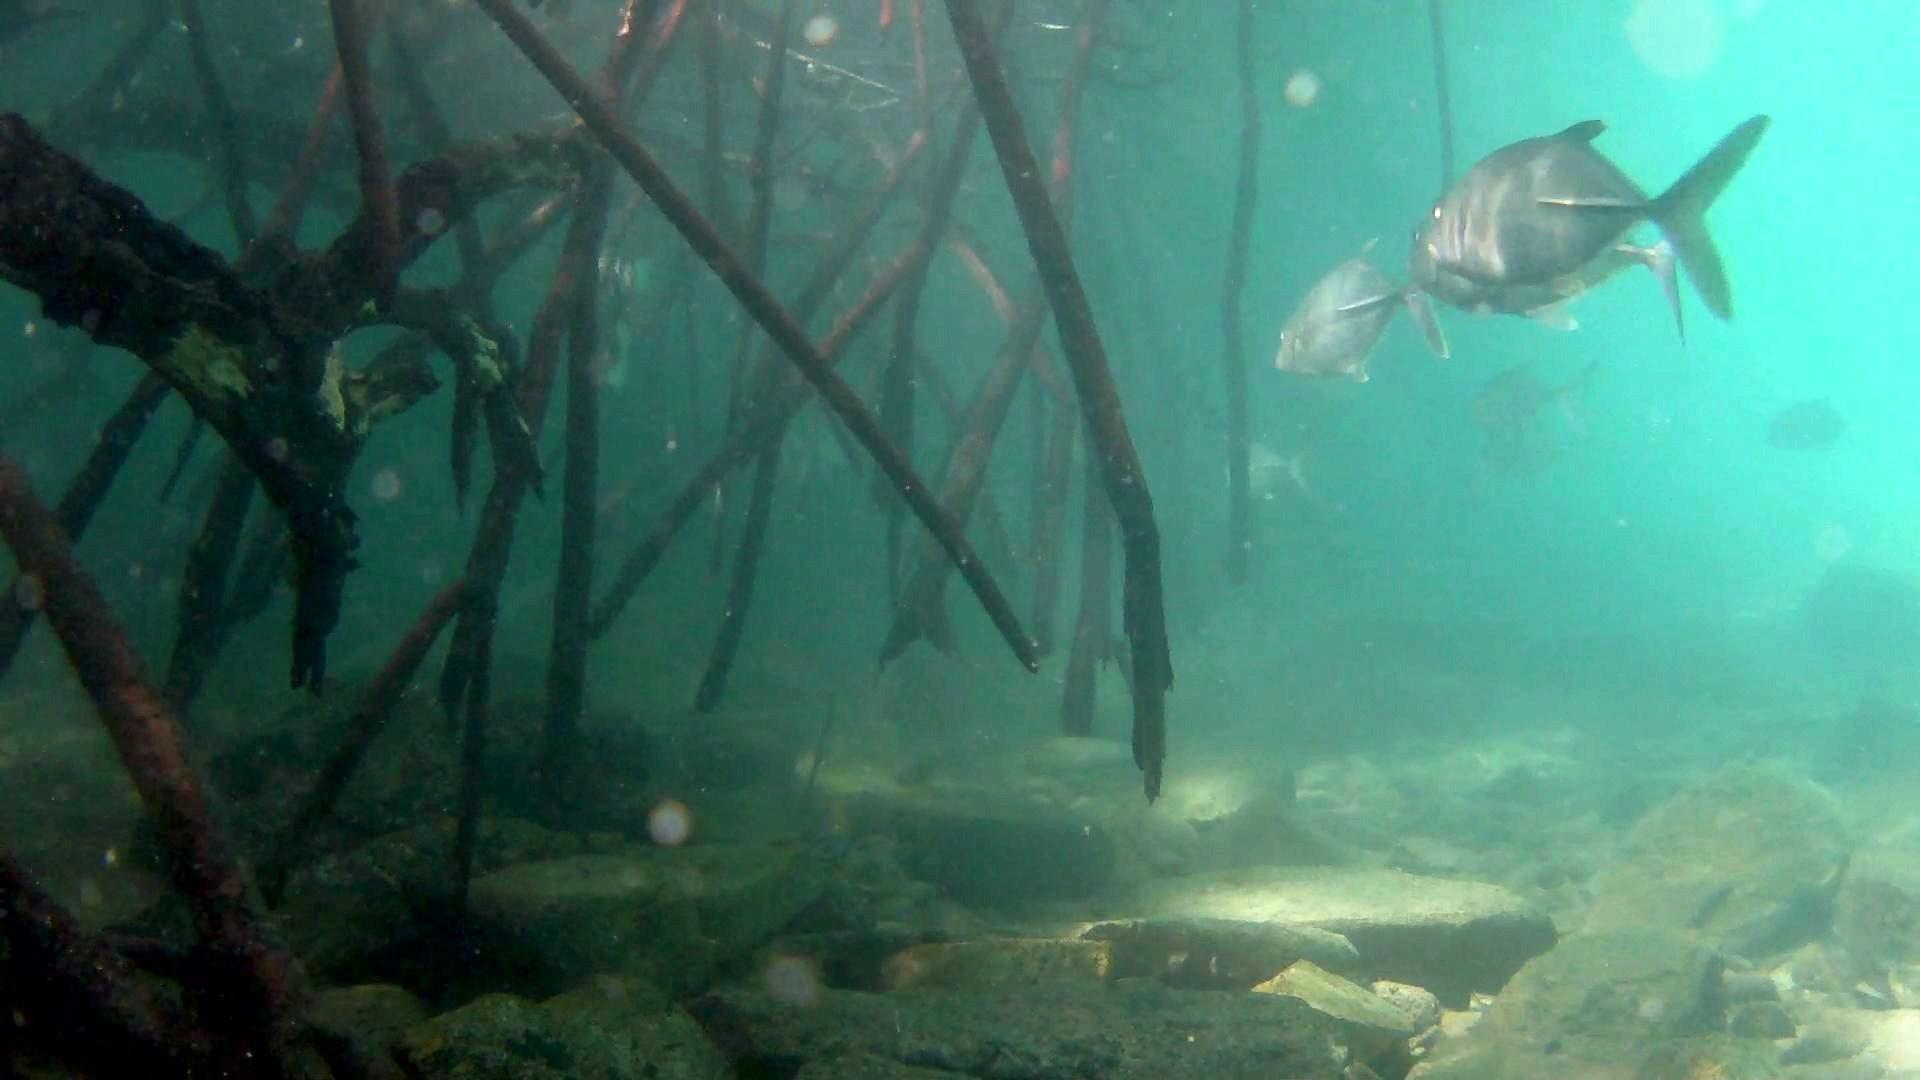caranx: (1395, 100, 1776, 326)
